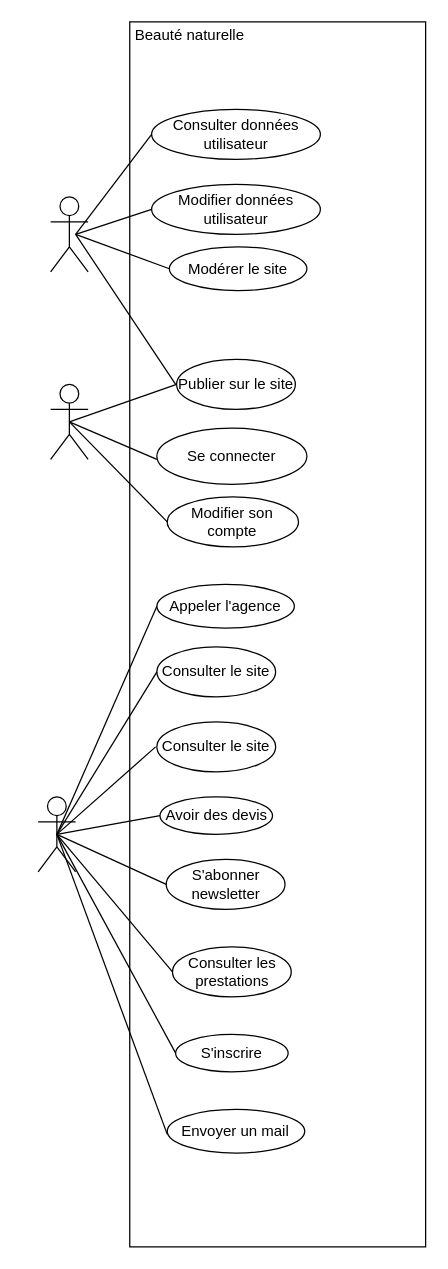
Some shapes in this 448 by 1269 pixel diagram are drawn without their labels. Each missing label, with the centre of its shape:
Administrateur: point 68,234
Utilisateur: point 68,421
Visiteur: point 56,834
